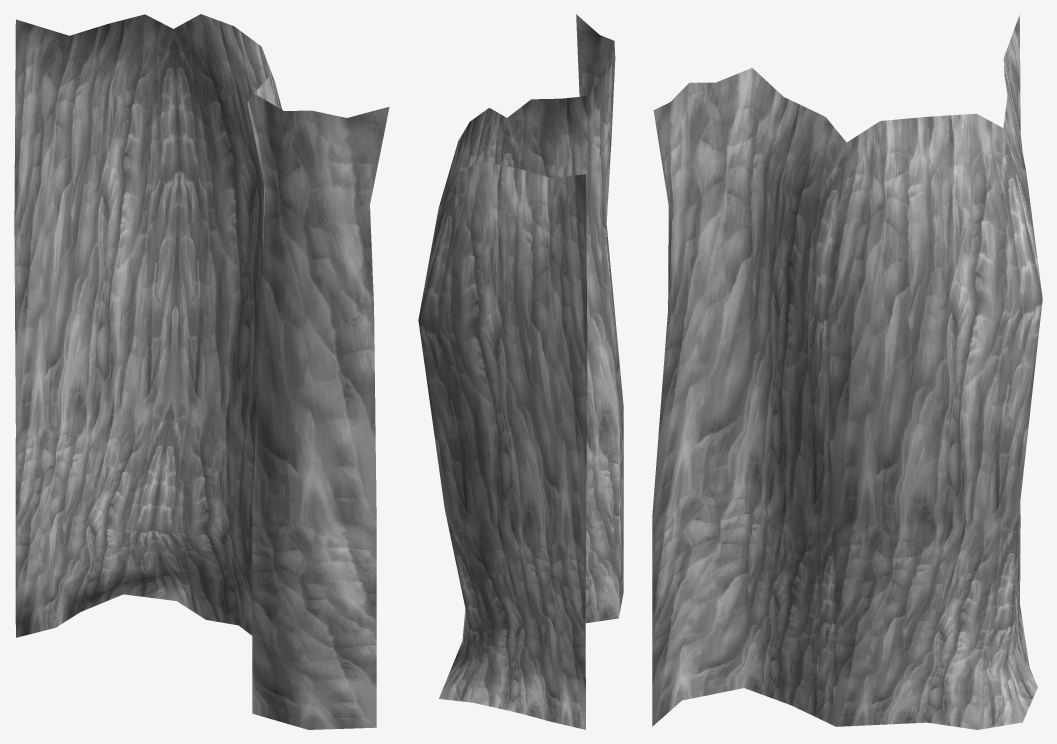
Rendered from SWORDLIGHT20_PS-AREA03_180.fbx.
3 views of the same model, side by side, from view 1: azimuth 30°, elevation 25°; view 2: azimuth 150°, elevation 25°; view 3: azimuth 270°, elevation 25° (orthographic). The views are drawn at different scales.
Parts seen in each view (by area): view 1: SWORDLIGHT20_PS-AREA03_180; view 2: SWORDLIGHT20_PS-AREA03_180; view 3: SWORDLIGHT20_PS-AREA03_180.
Part boxes in pixels (x1,y1,x2,y2): SWORDLIGHT20_PS-AREA03_180: (14, 14, 389, 729); SWORDLIGHT20_PS-AREA03_180: (418, 14, 623, 729); SWORDLIGHT20_PS-AREA03_180: (652, 15, 1042, 729).
Size of the model in its own units: 53329 by 151940 by 84983.
Materials: 1 (1 with a texture image).
